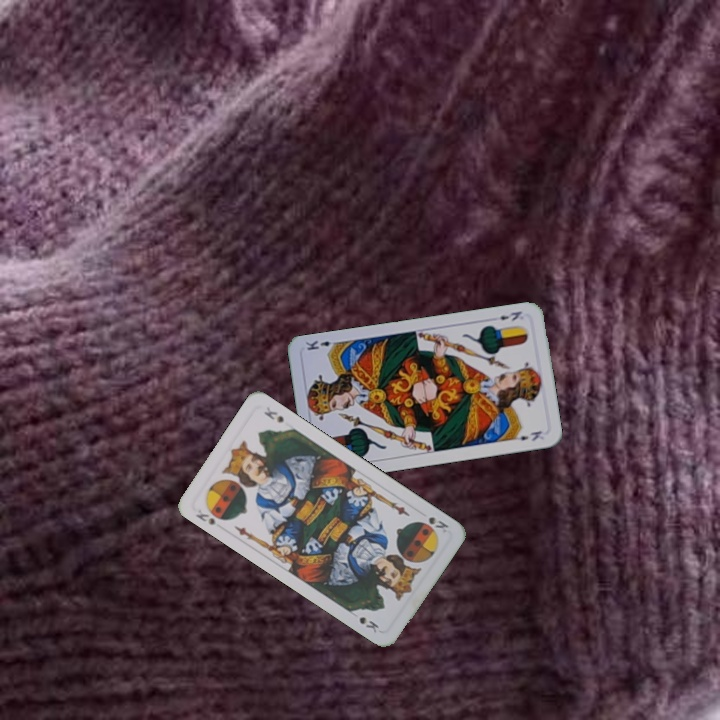EK: (496, 307, 524, 324)
SK: (417, 513, 451, 534), (192, 505, 218, 528)
